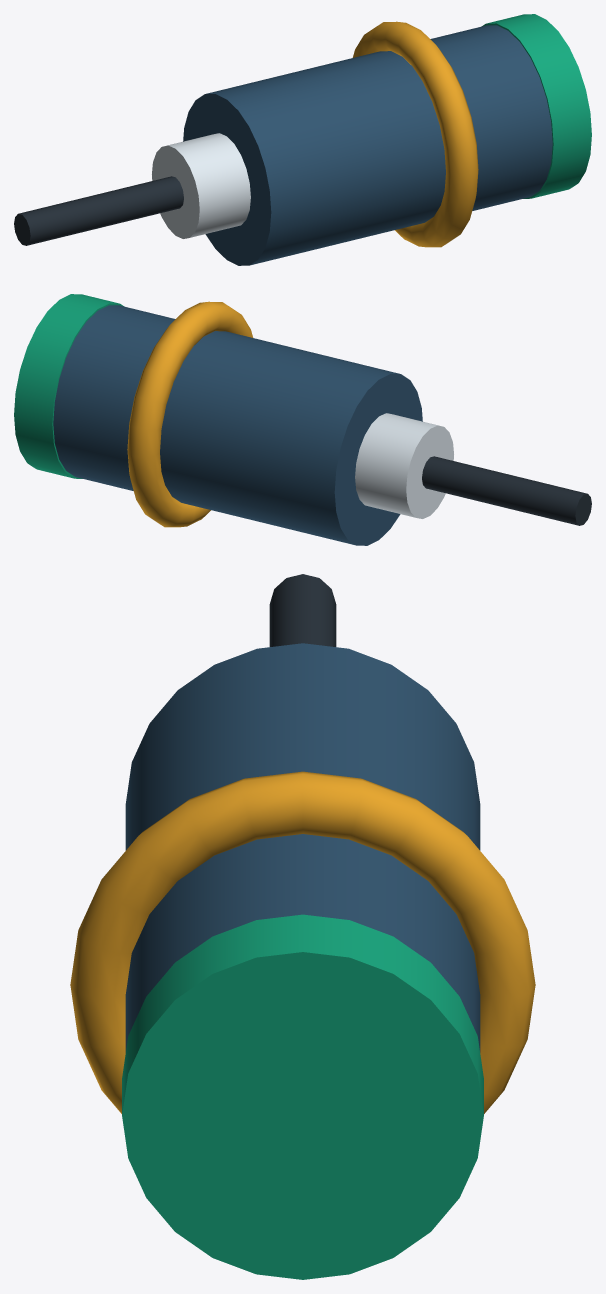
Rendered from sensor.glb.
3 renders of one model, top to bottom at view 1: azimuth 30°, elevation 25°; view 2: azimuth 150°, elevation 25°; view 3: azimuth 270°, elevation 25°, orthographic. The views are drawn at different scales.
Size of the model in its own units: 1.64 by 0.63 by 0.63.
